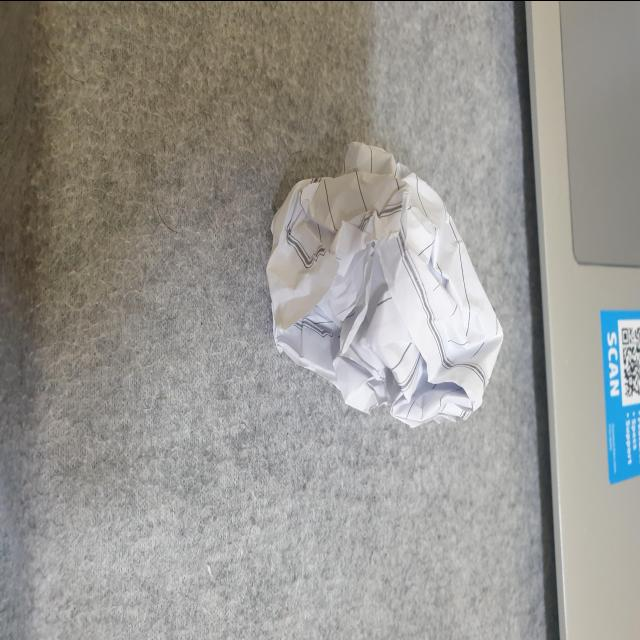kertas: (245, 126, 513, 439)
